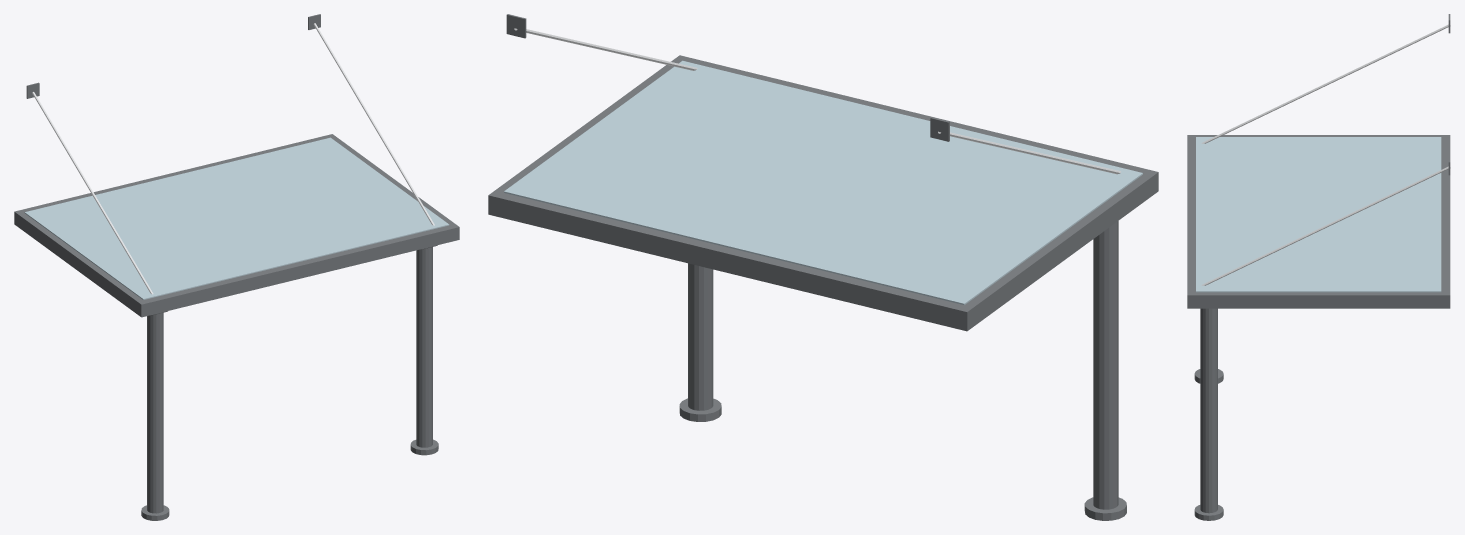
File: canopy_entr.glb
3 views of the same model, side by side, from view 1: azimuth 30°, elevation 25°; view 2: azimuth 150°, elevation 25°; view 3: azimuth 270°, elevation 25° (orthographic). The views are drawn at different scales.
Parts seen in each view (by area): view 1: canopy_entr_glass, canopy_entr_steel_d, canopy_entr_chrome; view 2: canopy_entr_glass, canopy_entr_steel_d, canopy_entr_chrome; view 3: canopy_entr_glass, canopy_entr_steel_d, canopy_entr_chrome.
Part boxes in pixels (box(x1,y1,x2,y2)): canopy_entr_glass: box(24, 137, 449, 299); canopy_entr_steel_d: box(14, 14, 459, 520); canopy_entr_chrome: box(32, 23, 434, 294); canopy_entr_glass: box(504, 60, 1142, 305); canopy_entr_steel_d: box(488, 14, 1158, 520); canopy_entr_chrome: box(514, 28, 1120, 174); canopy_entr_glass: box(1196, 137, 1441, 292); canopy_entr_steel_d: box(1187, 14, 1450, 520); canopy_entr_chrome: box(1201, 24, 1450, 285).
Bounding box in the file's own units: 5.2 × 5.42 × 3.61.
